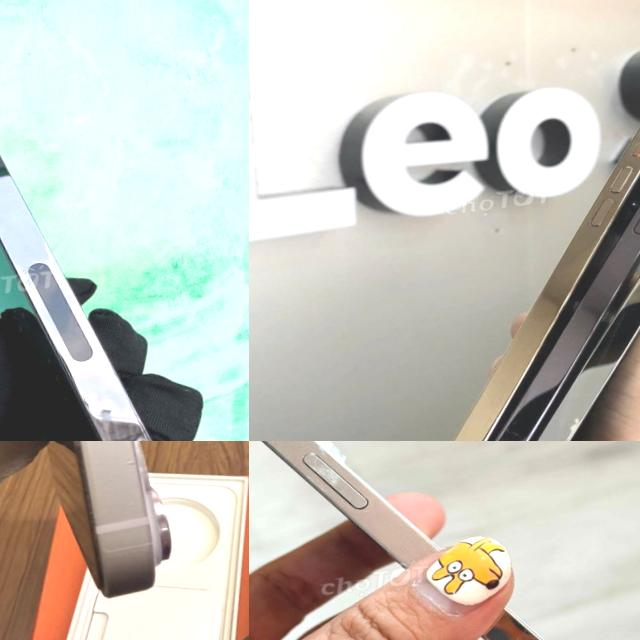scratch: (302, 441, 347, 502)
